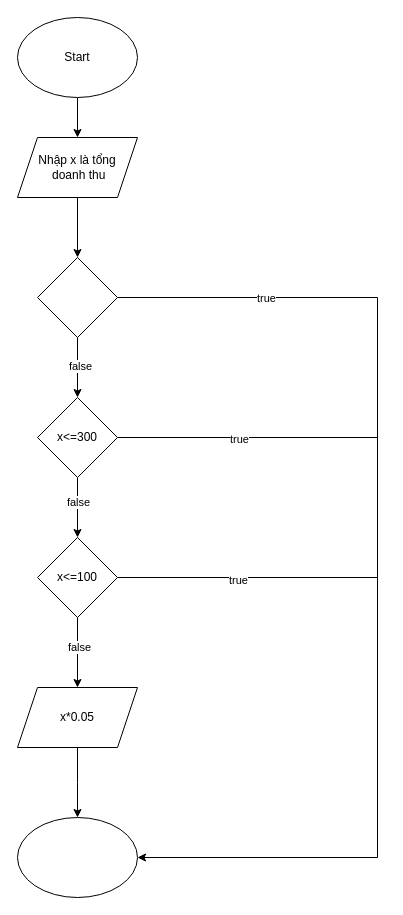
Image size: 403x915. Some labels were removed from this diagram. Each missing label, with the box of its shape:
End: (16, 816, 138, 898)
x>300: (36, 256, 118, 338)
